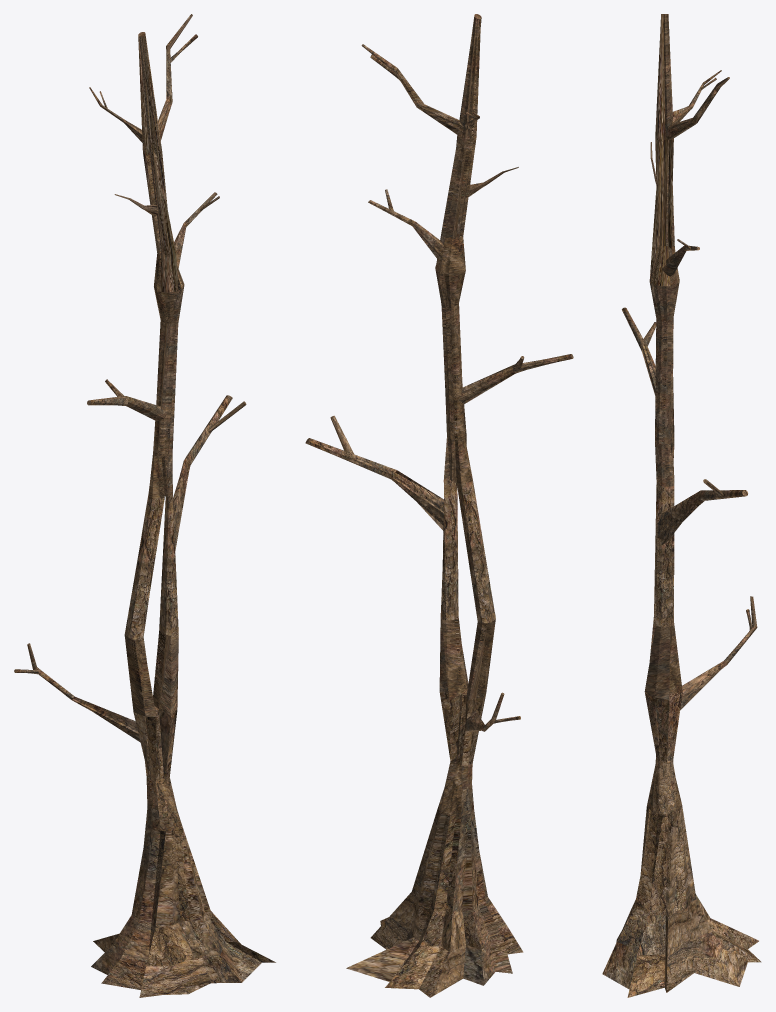
The model's file is trunk3.glb.
3 views of the same model, side by side, from view 1: azimuth 30°, elevation 25°; view 2: azimuth 150°, elevation 25°; view 3: azimuth 270°, elevation 25° (orthographic). The views are drawn at different scales.
Parts seen in each view (by area): view 1: trunk3; view 2: trunk3; view 3: trunk3.
Part boxes in pixels (x1,y1,x2,y2): trunk3: (14,14,275,997); trunk3: (305,14,573,997); trunk3: (602,14,761,997).
Size of what is drawn, in the model's own units: 19.4 by 81.39 by 12.61.
1 material, 1 textured.
